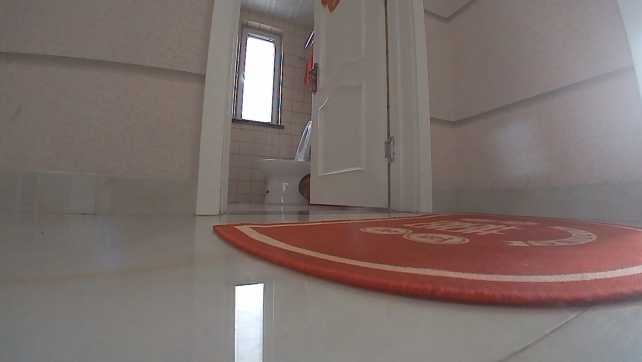blanket: (208, 206, 641, 306)
door_anno: (306, 0, 433, 211)
toilet: (254, 119, 310, 207)
